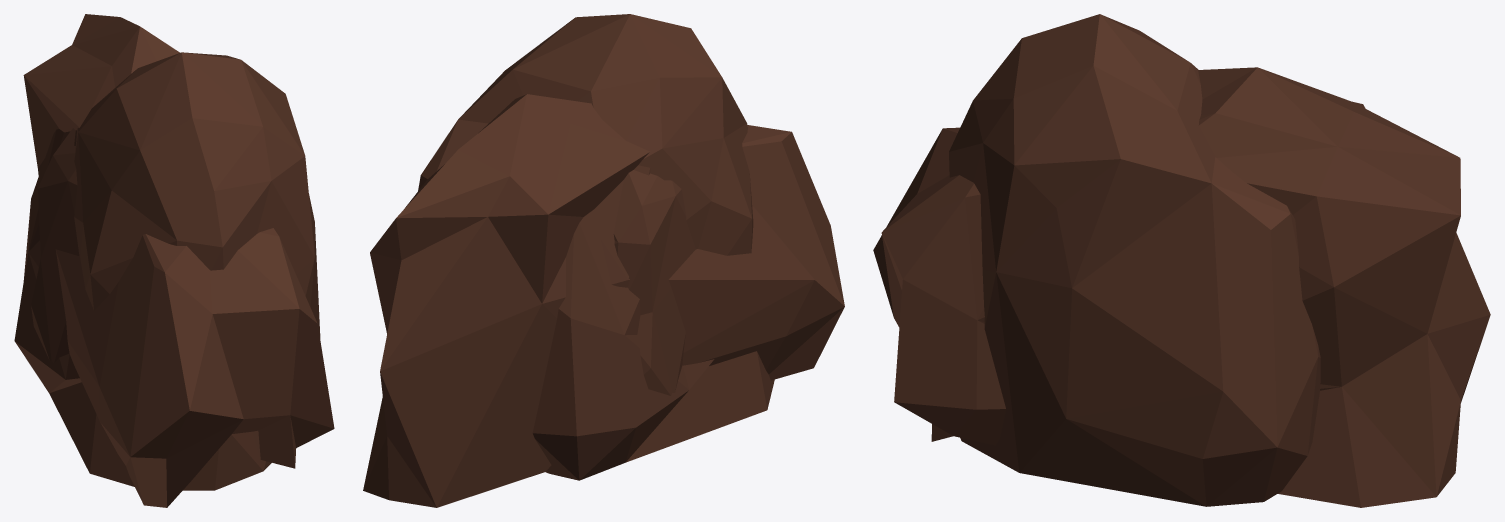
The model's file is Kamyki_Krawędzie.fbx.
The picture shows the model from 3 angles, left to right: view 1: azimuth 30°, elevation 25°; view 2: azimuth 150°, elevation 25°; view 3: azimuth 270°, elevation 25°; orthographic projection. The views are drawn at different scales.
Parts seen in each view (by area): view 1: Cube.070, Cube.067, Cube.071; view 2: Cube.070, Cube.067, Cube.071; view 3: Cube.067, Cube.070.
Part boxes in pixels (<box>): Cube.070: <box>23,14,334,507</box>; Cube.067: <box>14,52,320,490</box>; Cube.071: <box>31,128,79,363</box>; Cube.070: <box>363,94,844,507</box>; Cube.067: <box>418,14,774,480</box>; Cube.071: <box>613,170,695,395</box>; Cube.067: <box>949,14,1320,506</box>; Cube.070: <box>873,67,1490,507</box>.
Bounding box in the file's own units: 7340 × 9116 × 11876.
